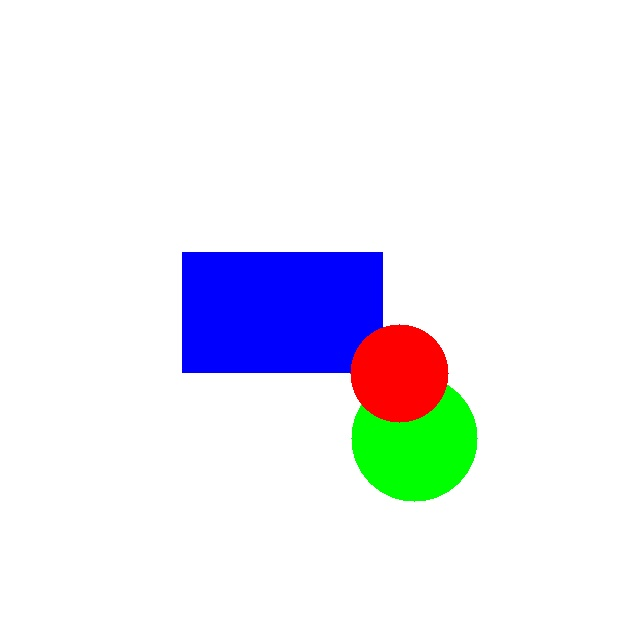cartao: (182, 252, 382, 372)
rosca_externa: (351, 375, 477, 501)
rosca_interna: (350, 324, 448, 422)
